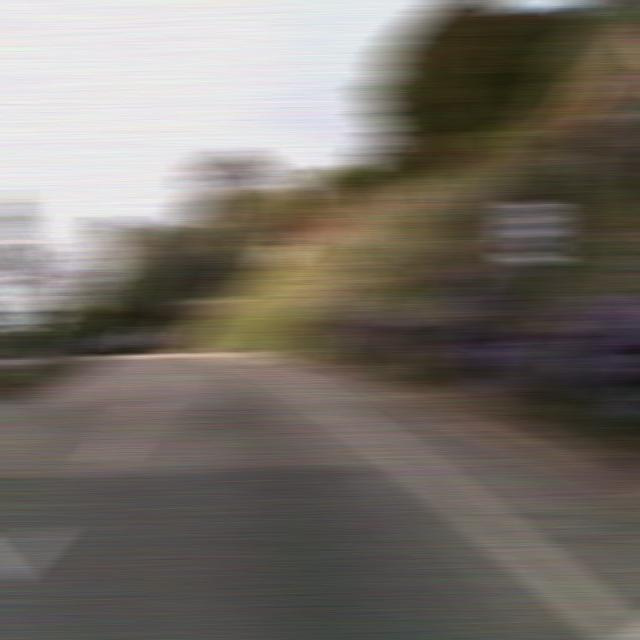speedLimit40: (500, 198, 561, 266)
